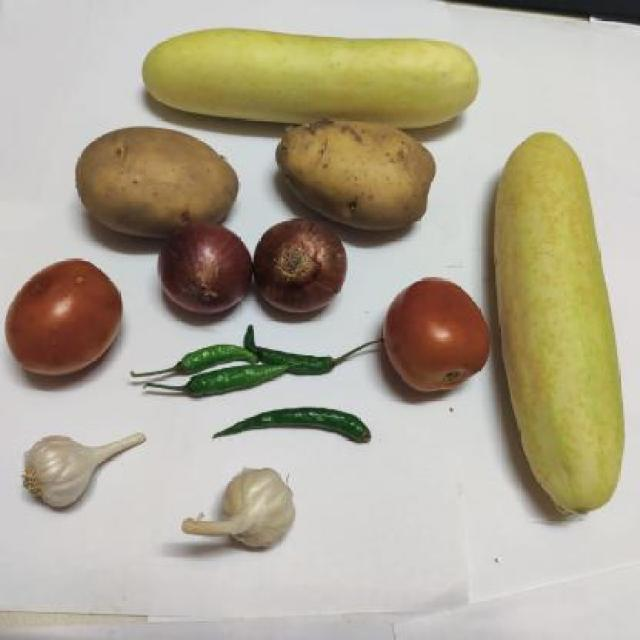Green Chili: (105, 320, 382, 406), (0, 420, 162, 537), (156, 456, 296, 572), (198, 394, 386, 471)
Onion: (143, 220, 254, 325), (244, 214, 350, 322)
Potato: (268, 112, 440, 235), (62, 128, 240, 238)
Tomato: (0, 252, 132, 390), (388, 274, 504, 404)
cucumber: (481, 135, 637, 531), (114, 29, 483, 131)
